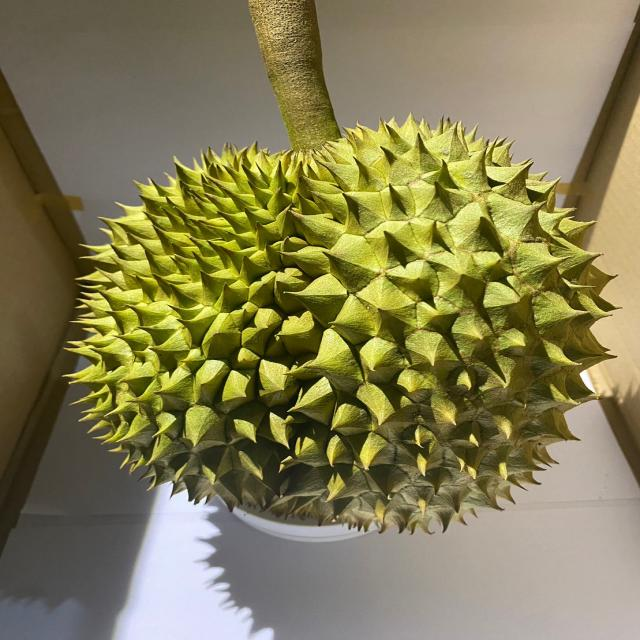immature: (64, 118, 619, 534)
